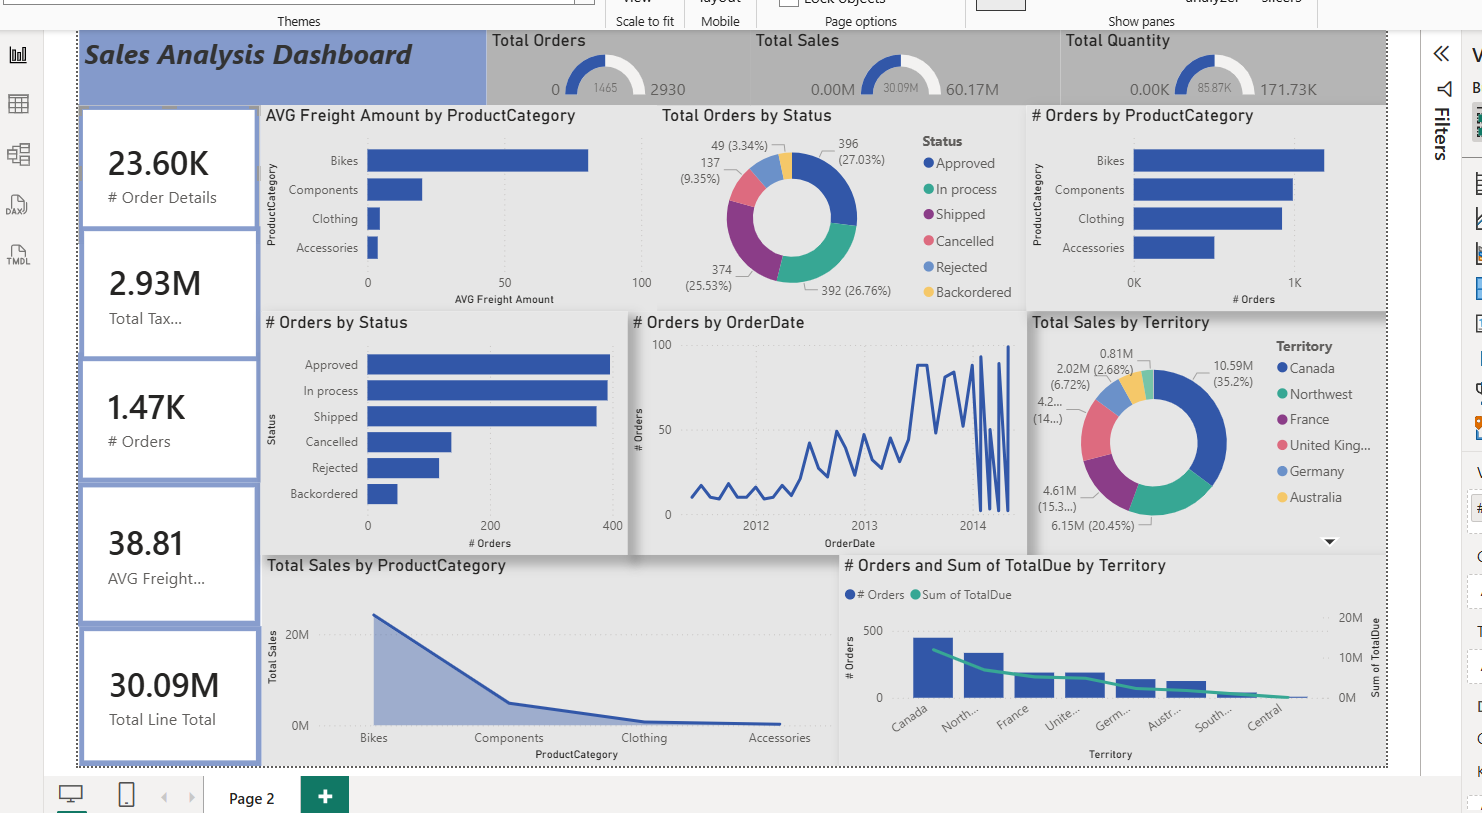

The dashboard page shown, as its layout file describes it:
{"tool":"powerbi","page":{"name":"Page 2","canvas":[1280,720],"ordinal":0},"visuals":[{"type":"cardVisual","fields":{"Data":["Sales.# Order Details"]},"box":[0,73.4,178.5,134.5],"z":0},{"type":"cardVisual","fields":{"Data":["Sales.# Orders"]},"box":[0,315.5,179.8,127.2],"z":1},{"type":"gauge","fields":{"Y":["Sales.Total Quantity"]},"box":[961.1,0,319.2,73.4],"z":3},{"type":"cardVisual","fields":{"Data":["Sales.Total Line Total"]},"box":[1.2,583.3,178.5,137],"z":4},{"type":"cardVisual","fields":{"Data":["Sales.Total Freight Amount"]},"box":[0,442.7,178.5,140.6],"z":5},{"type":"cardVisual","fields":{"Data":["Sales.Total Tax Amount"]},"box":[1.2,192,178.5,132.1],"z":6},{"type":"areaChart","fields":{"Category":["Product_dim.ProductCategory"],"Y":["Sales.Total Sales"]},"box":[179.8,513.6,564.9,206.7],"z":7},{"type":"donutChart","fields":{"Category":["Territy_Dim.Territory"],"Y":["Sales.Total Sales"]},"box":[928.1,275.1,352.2,238.5],"z":8},{"type":"donutChart","fields":{"Y":["Sales.Total Orders"],"Category":["Status_Dim.Status"]},"box":[566.2,73.4,362,201.8],"z":9},{"type":"gauge","fields":{"Y":["Sales.Total Orders"]},"box":[399.9,0,258,73.4],"z":10},{"type":"gauge","fields":{"Y":["Sales.Total Sales"]},"box":[657.9,0,303.3,73.4],"z":11},{"type":"textbox","box":[1.2,0,398.6,73.4],"z":12},{"type":"lineChart","fields":{"Y":["Sales.# Orders"],"Category":["Sales.OrderDate"]},"box":[538,275.1,390.1,238.5],"z":13},{"type":"barChart","fields":{"Category":["Product_dim.ProductCategory"],"Y":["Sales.Total Freight Amount"]},"box":[178.5,73.4,387.6,201.8],"z":14},{"type":"clusteredBarChart","fields":{"Y":["Sales.# Orders"],"Category":["Product_dim.ProductCategory","Product_dim.ProductSubCategory","Product_dim.Product"]},"box":[928.1,73.4,352.2,201.8],"z":15},{"type":"clusteredBarChart","fields":{"Category":["Status_Dim.Status"],"Y":["Sales.# Orders"]},"box":[178.5,275.1,359.5,238.5],"z":16},{"type":"lineClusteredColumnComboChart","fields":{"Y":["Sales.# Orders"],"Y2":["Sum(Sales.TotalDue)"],"Category":["Territy_Dim.Territory"]},"box":[744.7,513.6,535.6,206.7],"z":17}]}

Visuals, with their boxes on the page's 1280x720 design canvas (x1, y1, x2, y2). These are canvas units, not pixel positions in the 1482x813 screenshot, which may show the page scaled, cropped or inside an application window:
cardVisual - Sales.# Order Details: (x1=0, y1=73, x2=178, y2=208)
cardVisual - Sales.# Orders: (x1=0, y1=316, x2=180, y2=443)
gauge - Sales.Total Quantity: (x1=961, y1=0, x2=1280, y2=73)
cardVisual - Sales.Total Line Total: (x1=1, y1=583, x2=180, y2=720)
cardVisual - Sales.Total Freight Amount: (x1=0, y1=443, x2=178, y2=583)
cardVisual - Sales.Total Tax Amount: (x1=1, y1=192, x2=180, y2=324)
areaChart - Product_dim.ProductCategory x Sales.Total Sales: (x1=180, y1=514, x2=745, y2=720)
donutChart - Territy_Dim.Territory x Sales.Total Sales: (x1=928, y1=275, x2=1280, y2=514)
donutChart - Sales.Total Orders x Status_Dim.Status: (x1=566, y1=73, x2=928, y2=275)
gauge - Sales.Total Orders: (x1=400, y1=0, x2=658, y2=73)
gauge - Sales.Total Sales: (x1=658, y1=0, x2=961, y2=73)
textbox: (x1=1, y1=0, x2=400, y2=73)
lineChart - Sales.# Orders x Sales.OrderDate: (x1=538, y1=275, x2=928, y2=514)
barChart - Product_dim.ProductCategory x Sales.Total Freight Amount: (x1=178, y1=73, x2=566, y2=275)
clusteredBarChart - Sales.# Orders x Product_dim.ProductCategory: (x1=928, y1=73, x2=1280, y2=275)
clusteredBarChart - Status_Dim.Status x Sales.# Orders: (x1=178, y1=275, x2=538, y2=514)
lineClusteredColumnComboChart - Sales.# Orders x Sum(Sales.TotalDue): (x1=745, y1=514, x2=1280, y2=720)
